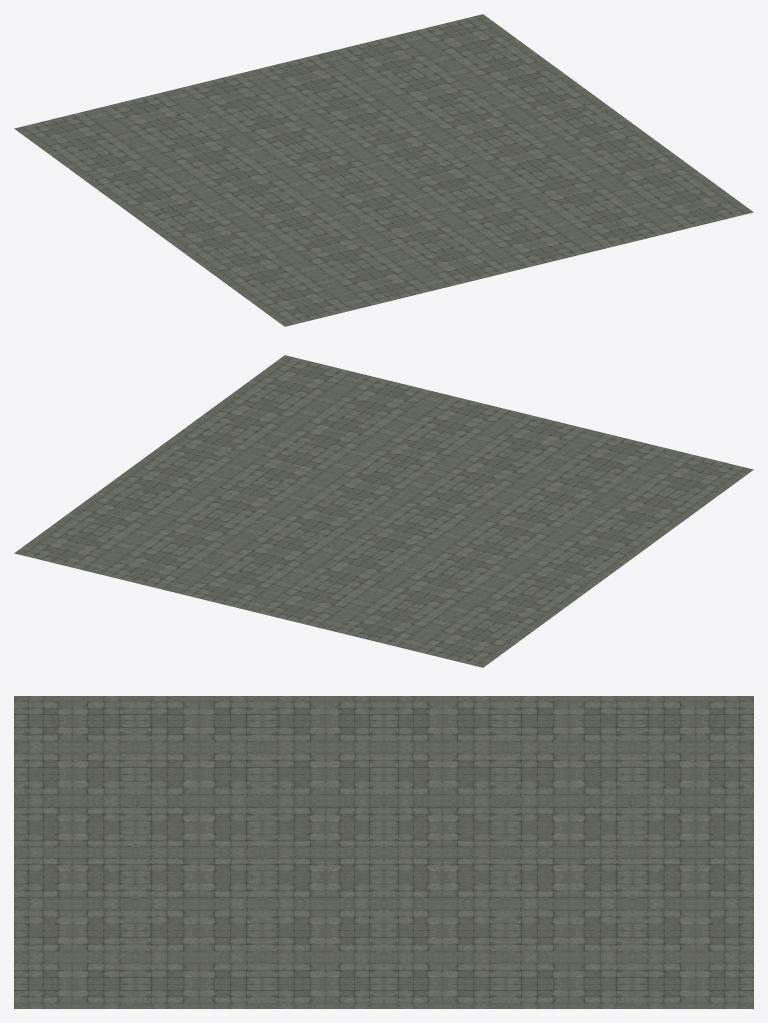
Rendered from Item_3001_wujian002_dimian.FBX.
3 renders of one model, top to bottom at view 1: azimuth 30°, elevation 25°; view 2: azimuth 150°, elevation 25°; view 3: azimuth 270°, elevation 25°, orthographic. The views are drawn at different scales.
Visible parts, largest first — view 1: Item_3001_wujian002_dimian; view 2: Item_3001_wujian002_dimian; view 3: Item_3001_wujian002_dimian.
Part boxes in pixels (x1,y1,x2,y2): Item_3001_wujian002_dimian: (14, 14, 753, 326); Item_3001_wujian002_dimian: (14, 355, 753, 667); Item_3001_wujian002_dimian: (14, 696, 753, 1008).
Bounding box in the file's own units: 8617 × 5.68e-13 × 8617.
